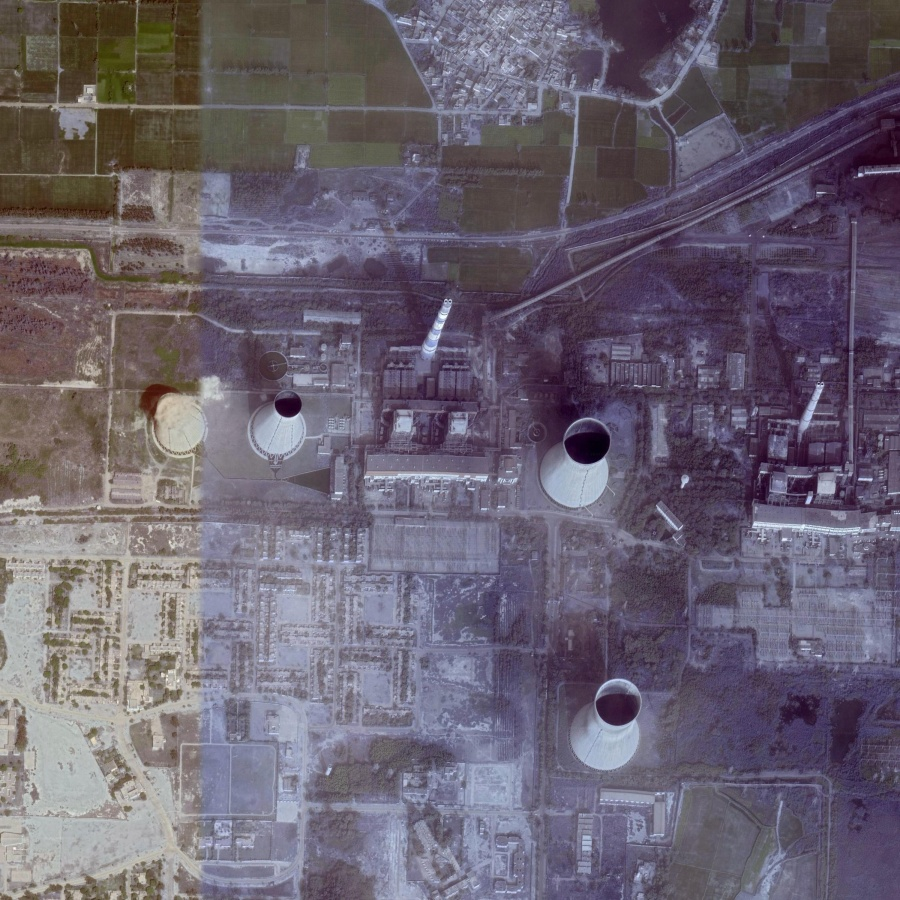PowerPlant: (143, 221, 619, 517)
